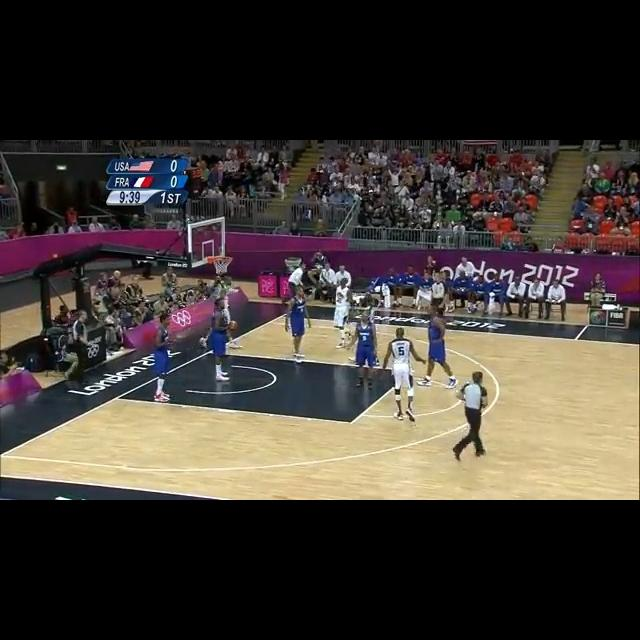basketball: (229, 319, 241, 329)
hoop: (210, 252, 233, 276)
person: (387, 328, 420, 422), (422, 302, 457, 387), (353, 314, 381, 387), (155, 315, 175, 405), (286, 286, 308, 363), (210, 299, 227, 386), (334, 279, 351, 347)
